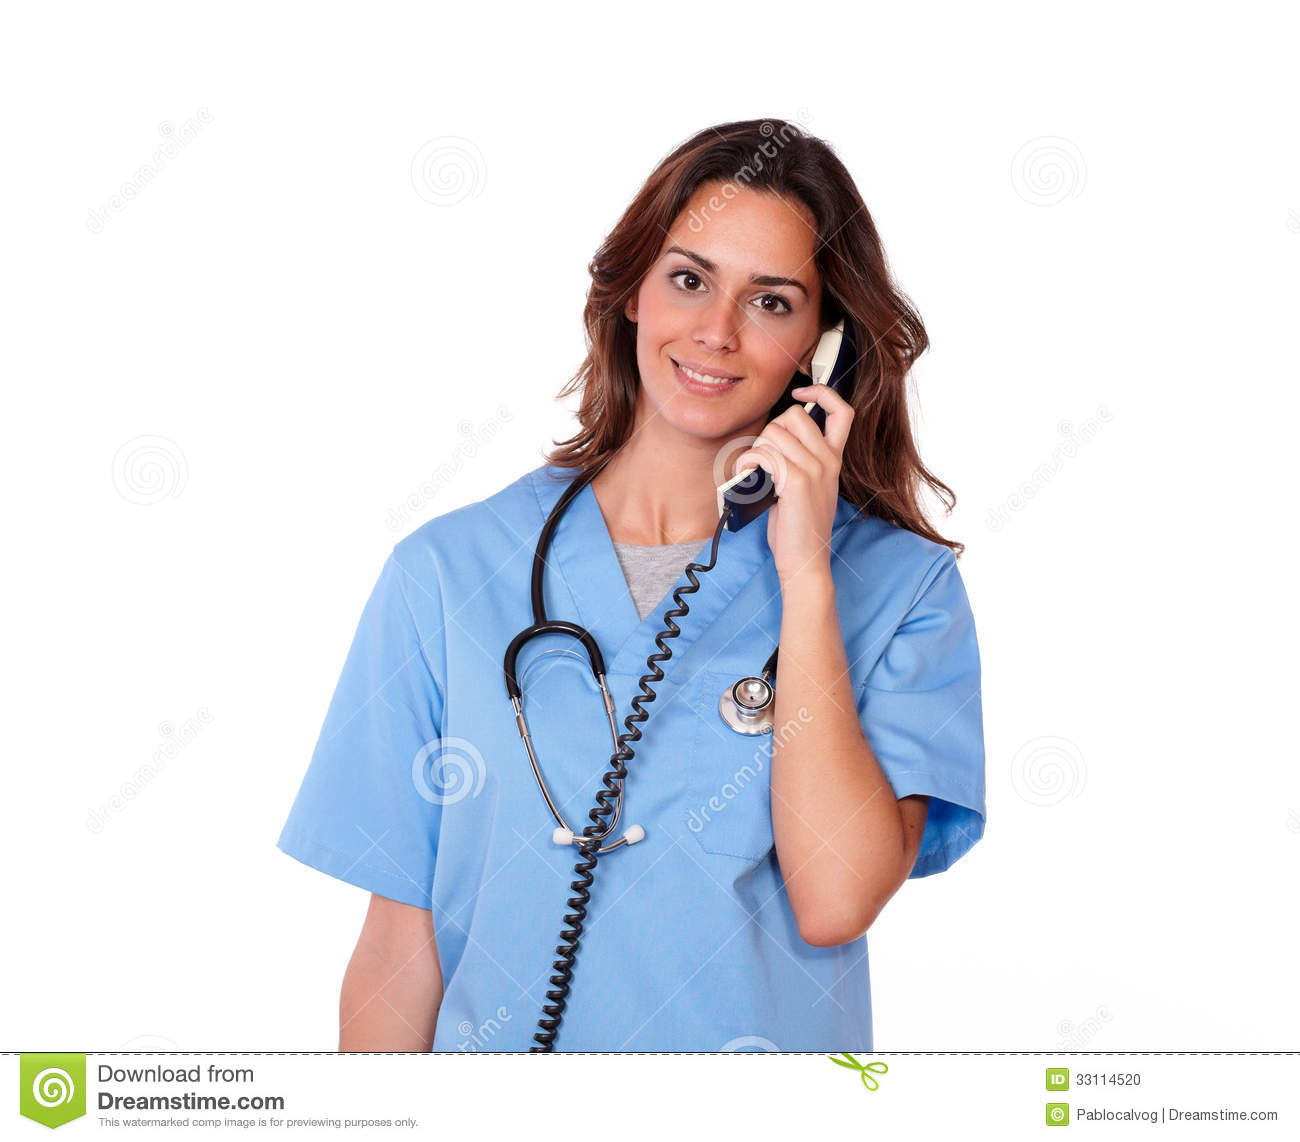phone: (741, 314, 851, 511)
talk: (636, 244, 863, 586)
